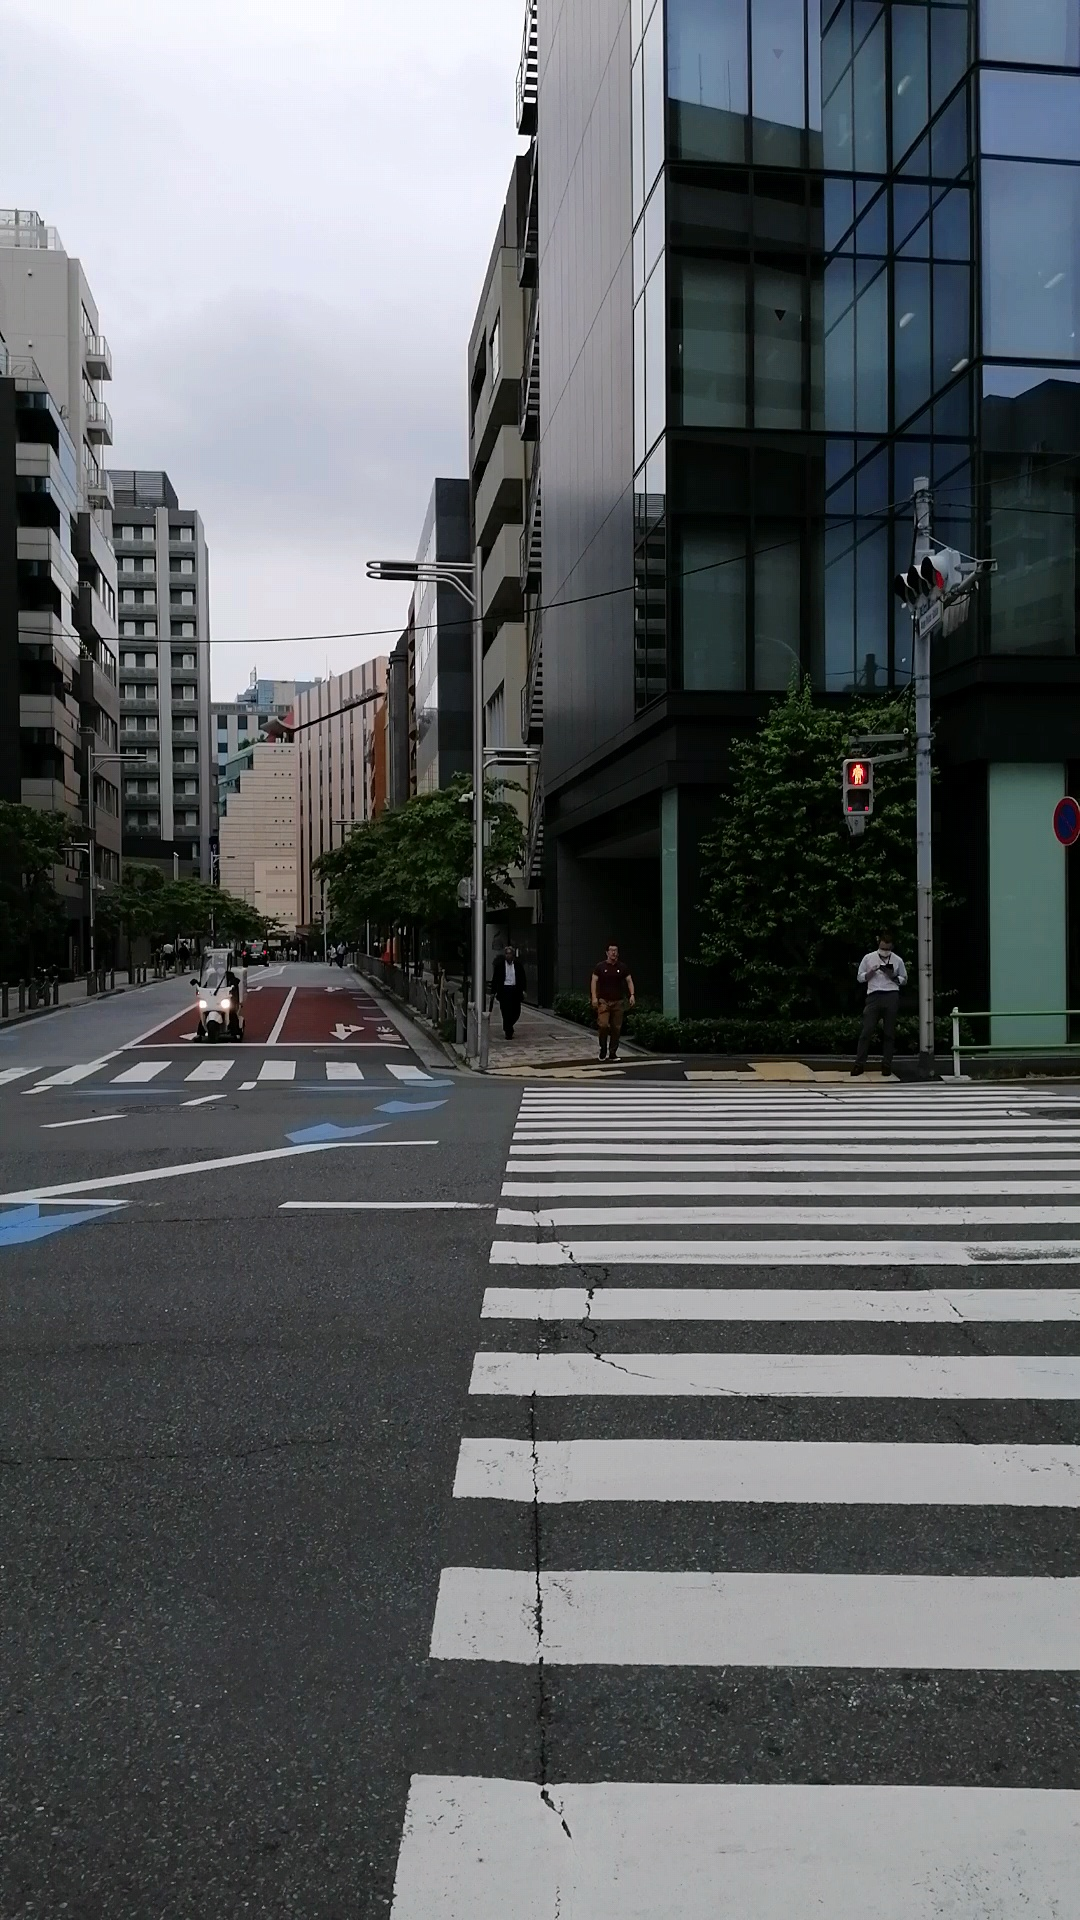red: (841, 760, 873, 818)
